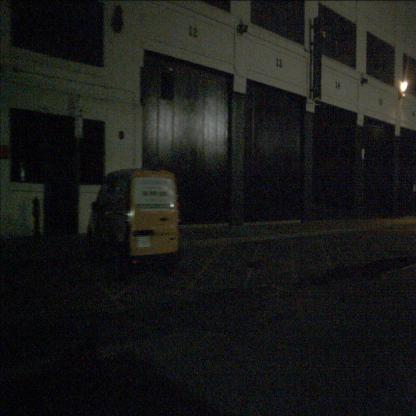vehicle-car: (86, 169, 182, 276)
